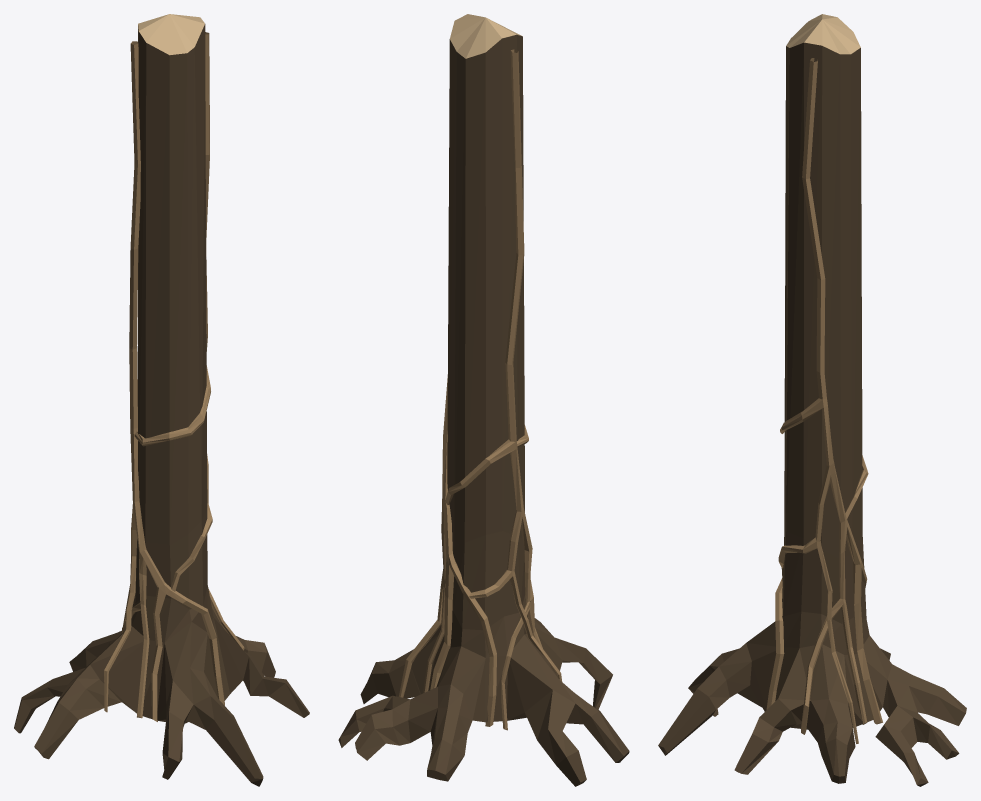
The model's file is SM_Env_Tree_Base_01.glb.
3 renders of one model, left to right at view 1: azimuth 30°, elevation 25°; view 2: azimuth 150°, elevation 25°; view 3: azimuth 270°, elevation 25°, orthographic.
Parts seen in each view (by area): view 1: SM_Env_Tree_Base_01_part00; view 2: SM_Env_Tree_Base_01_part00; view 3: SM_Env_Tree_Base_01_part00.
Part boxes in pixels (x1,y1,x2,y2): SM_Env_Tree_Base_01_part00: [14, 14, 309, 786]; SM_Env_Tree_Base_01_part00: [338, 14, 629, 786]; SM_Env_Tree_Base_01_part00: [658, 14, 966, 786].
Bounding box in the file's own units: 3.01 × 8.19 × 3.14.
Materials: 1 (1 with a texture image).
